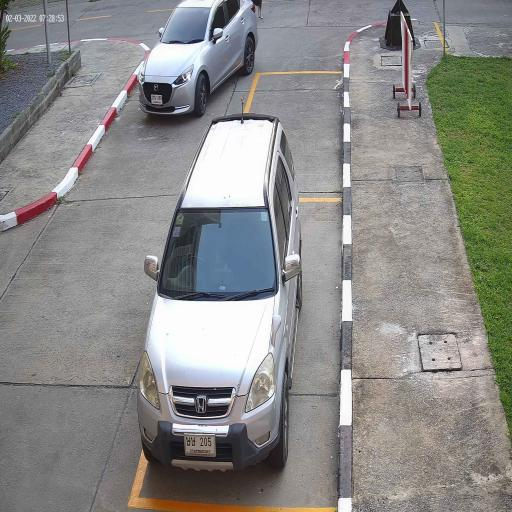car: (136, 113, 302, 475), (138, 0, 258, 116)
